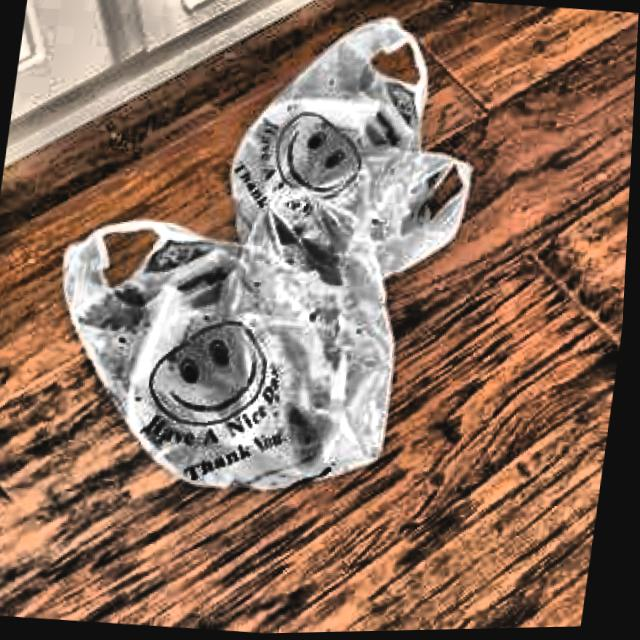Plastic: (11, 157, 427, 514), (219, 0, 508, 335)
